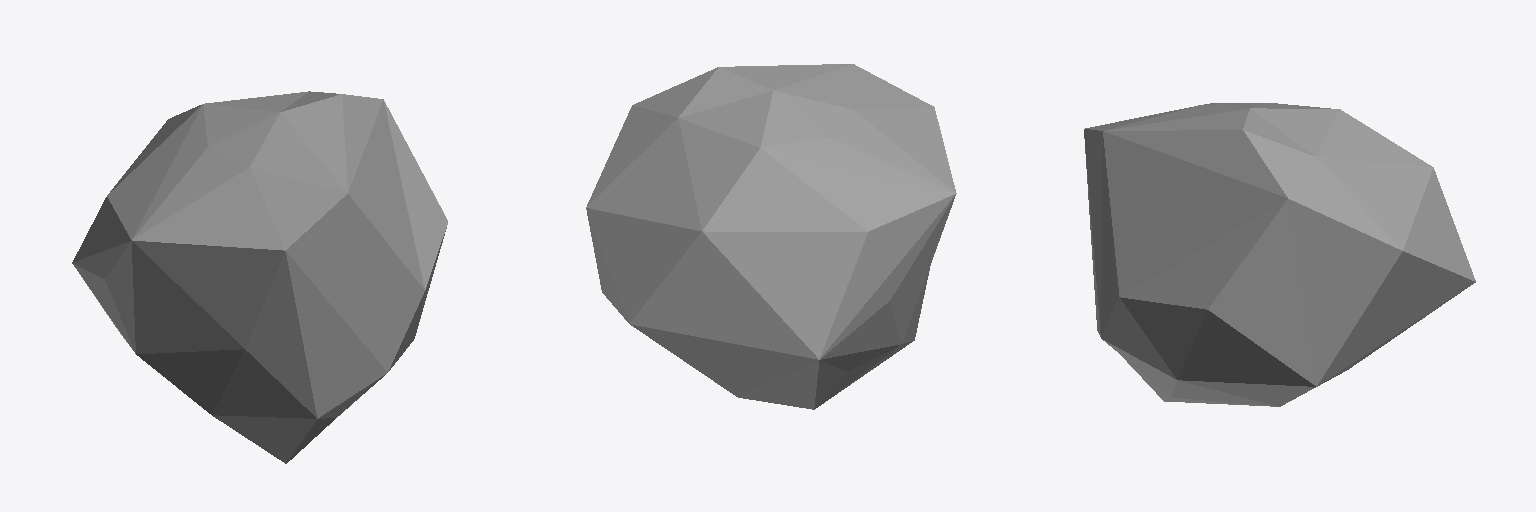
The model's file is asteroid_large.obj.
The picture shows the model from 3 angles: view 1: azimuth 30°, elevation 25°; view 2: azimuth 150°, elevation 25°; view 3: azimuth 270°, elevation 25°; orthographic projection.
Visible parts, largest first — view 1: asteroid_large; view 2: asteroid_large; view 3: asteroid_large.
Part boxes in pixels (x1,y1,x2,y2): asteroid_large: (72,91,447,463); asteroid_large: (586,64,956,409); asteroid_large: (1084,103,1475,406).
Size of the model in its own units: 2.12 by 2.06 by 2.3.